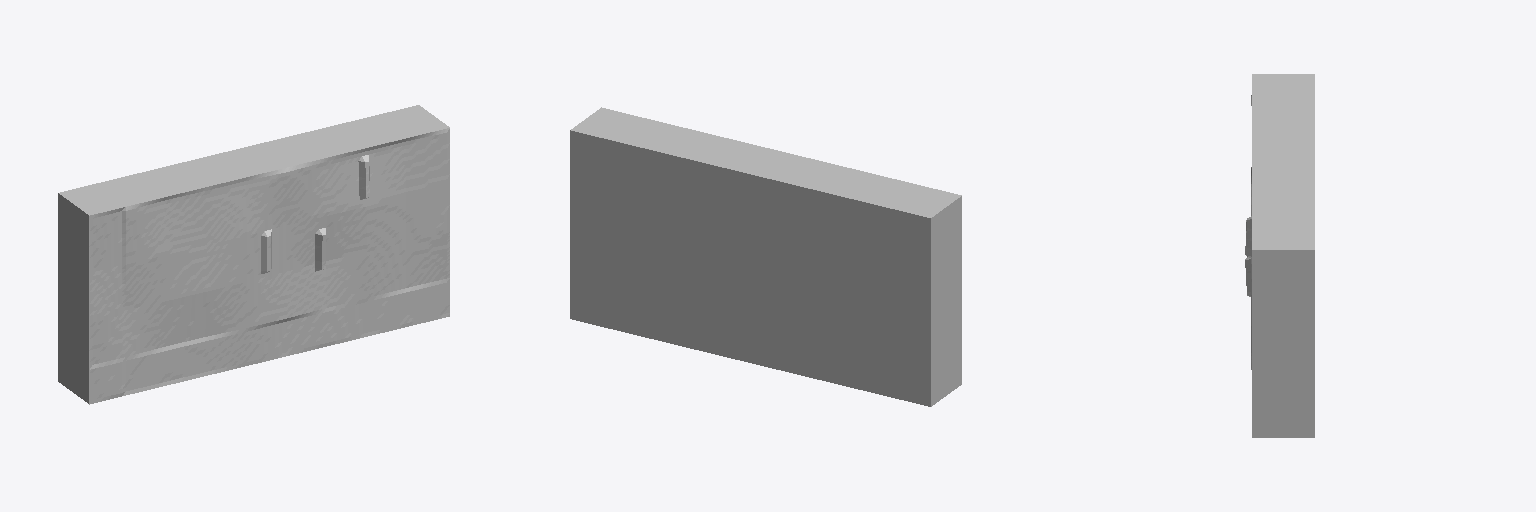
The model's file is rectangular_prism_bumps_2_3.obj.
3 renders of one model, left to right at view 1: azimuth 30°, elevation 25°; view 2: azimuth 150°, elevation 25°; view 3: azimuth 270°, elevation 25°, orthographic.
Bounding box in the file's own units: 10 × 5 × 1.68.